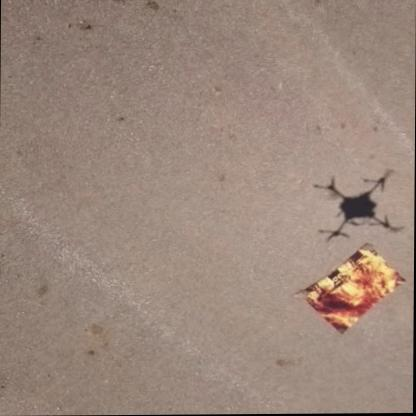fire-poster: (292, 242, 408, 336)
